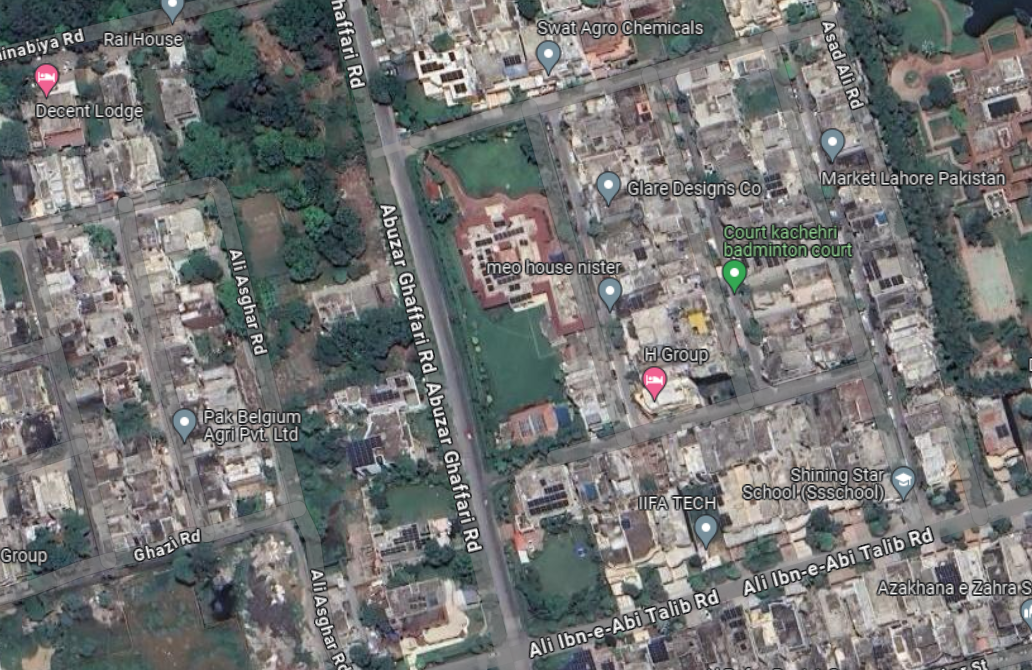solar-panel: (471, 215, 534, 303), (387, 525, 442, 552), (936, 559, 968, 604), (725, 607, 752, 645), (528, 488, 569, 511), (350, 435, 379, 463), (418, 49, 439, 73), (645, 640, 667, 660), (369, 386, 400, 400), (445, 72, 465, 93), (573, 652, 596, 670), (885, 274, 909, 287), (767, 173, 782, 191), (503, 54, 527, 65), (633, 242, 646, 262), (865, 260, 878, 278), (997, 424, 1007, 440)
